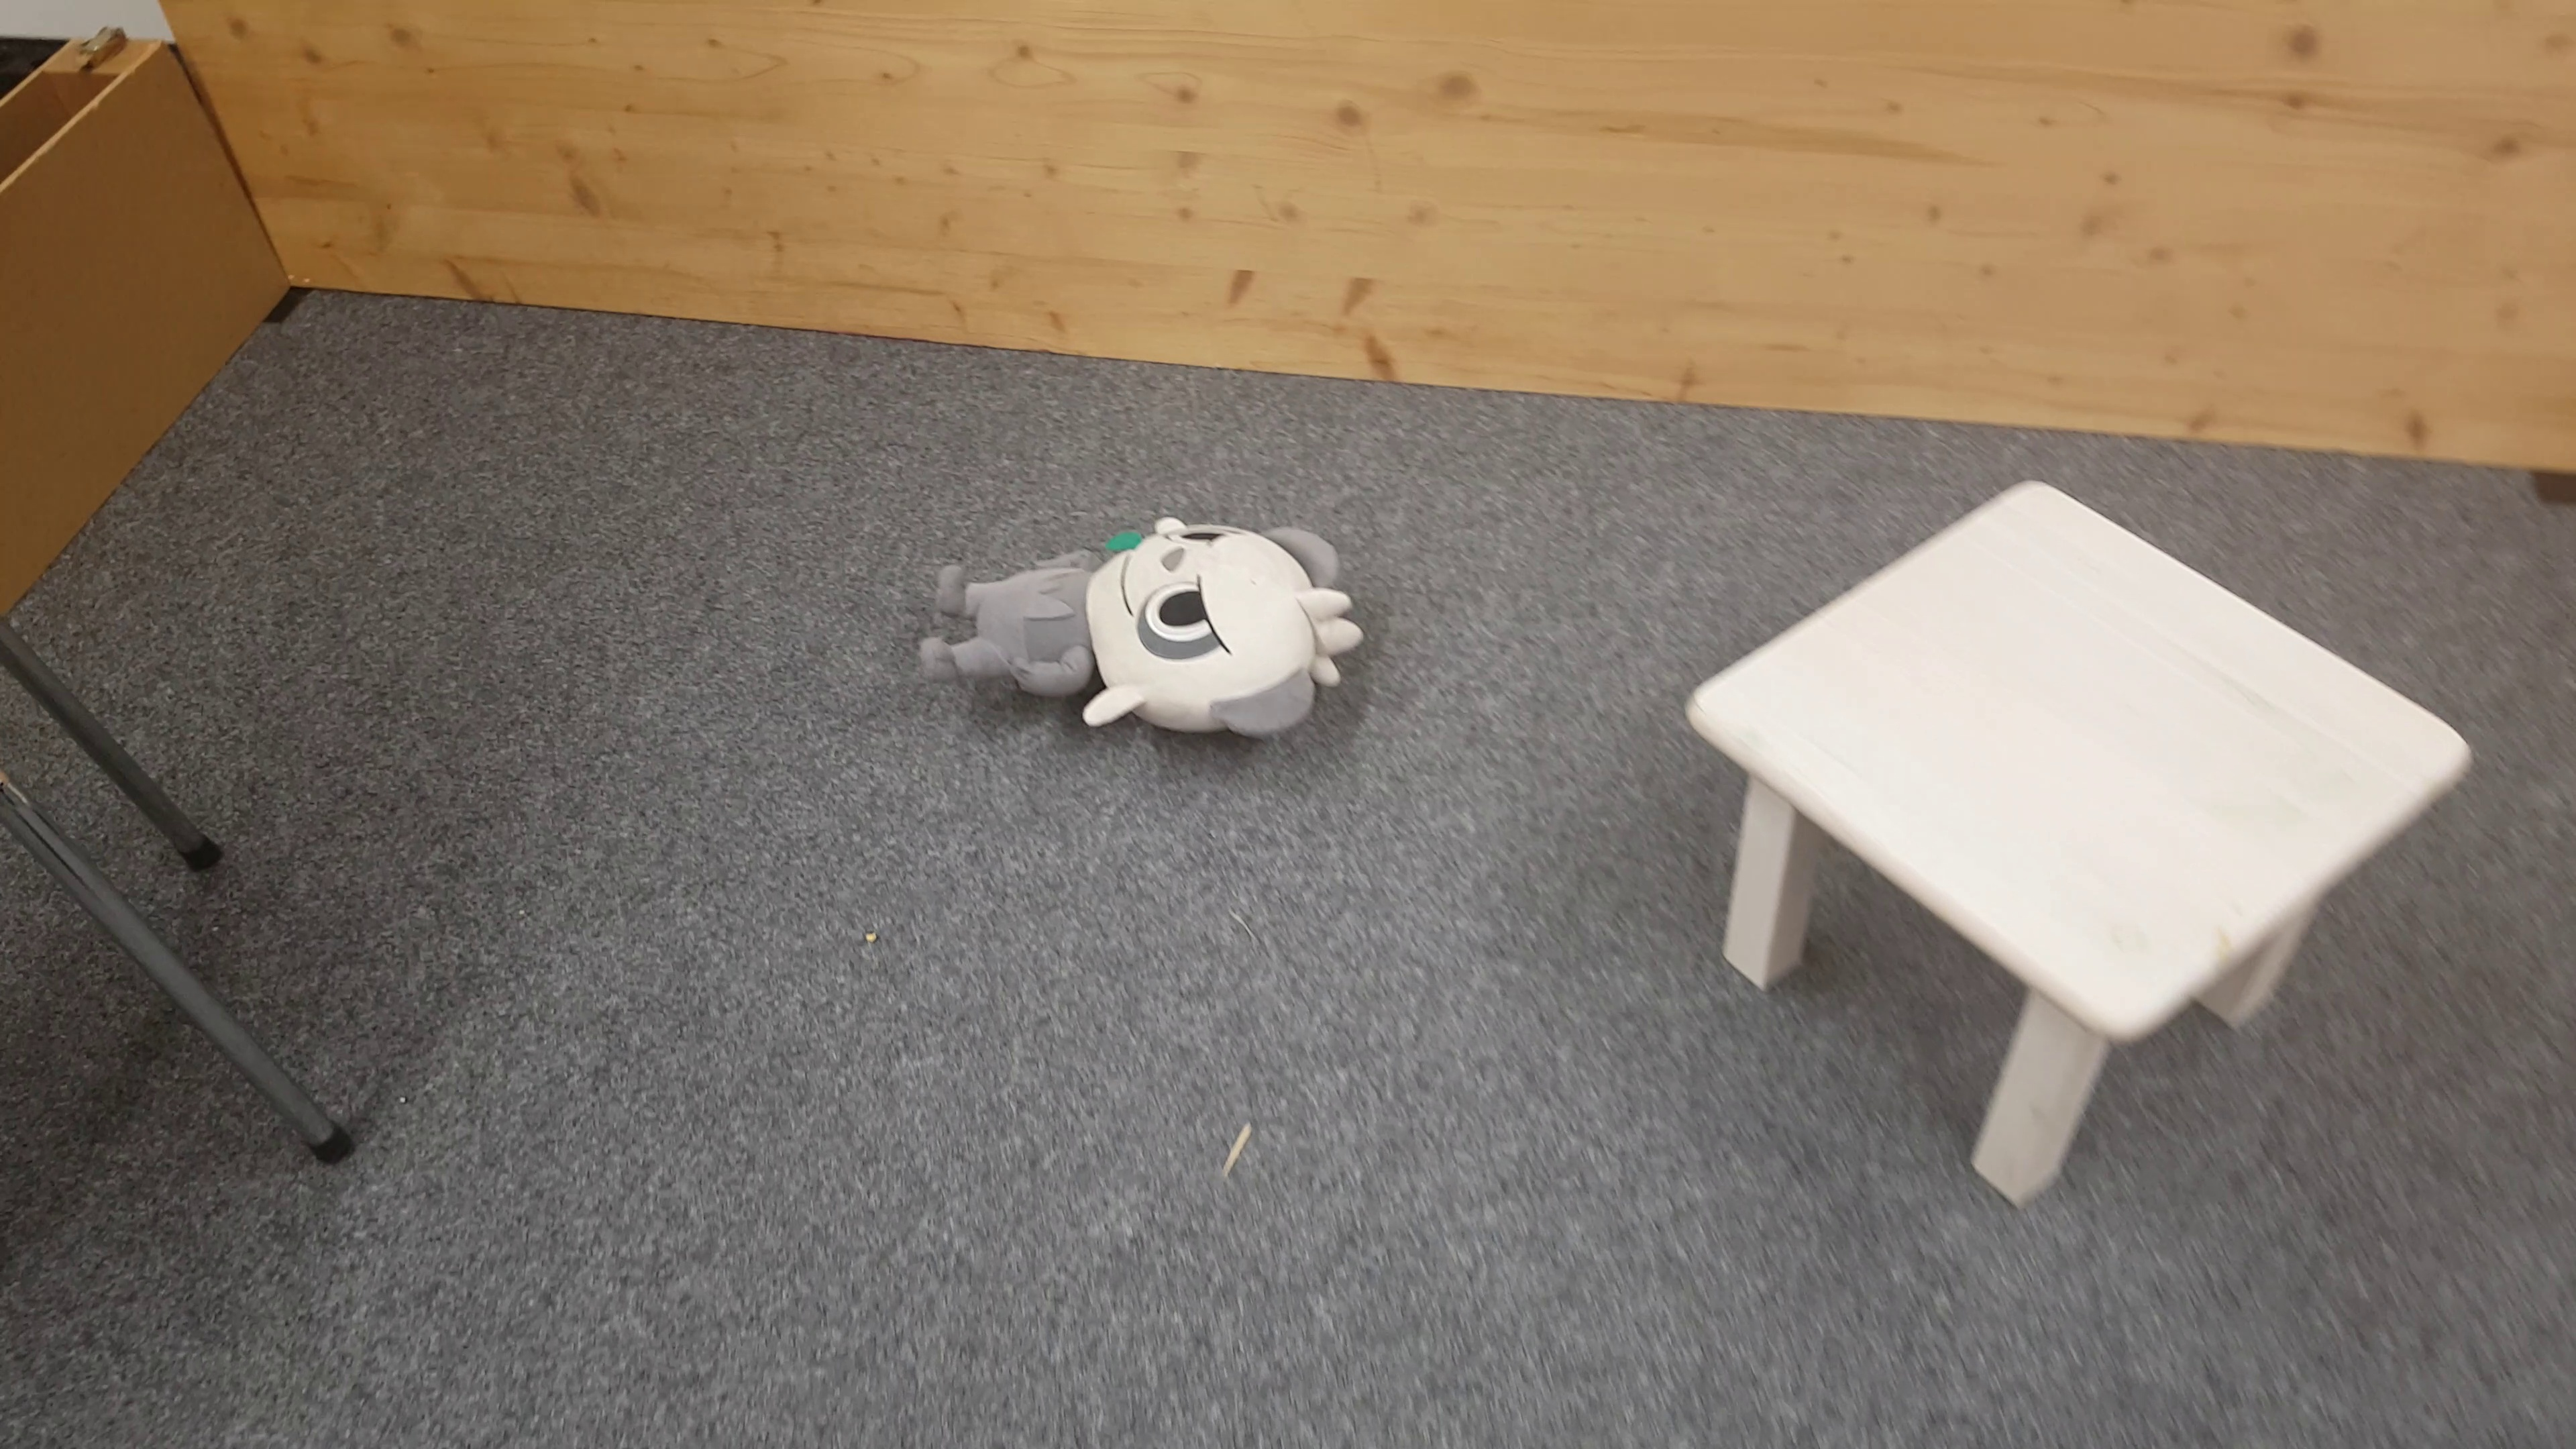grasp: (920, 511, 1369, 741)
